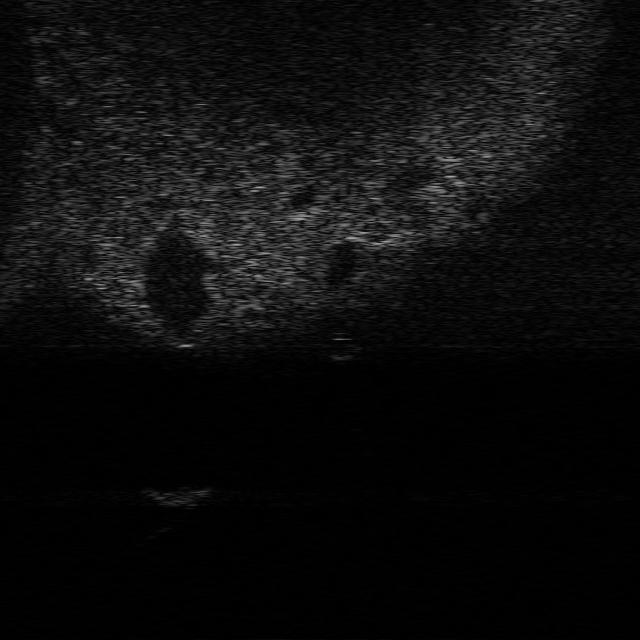ball: (320, 331, 364, 361)
cube: (142, 487, 212, 508)
